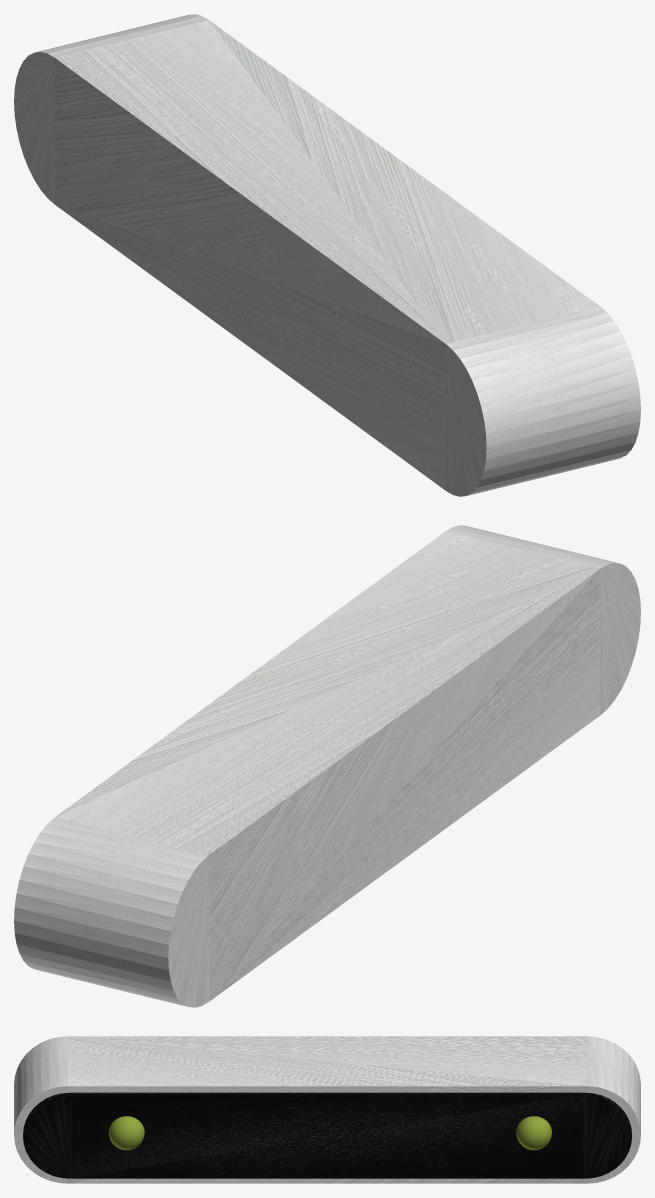
Rendered from stereolab.dae.
3 renders of one model, top to bottom at view 1: azimuth 30°, elevation 25°; view 2: azimuth 150°, elevation 25°; view 3: azimuth 270°, elevation 25°, orthographic. The views are drawn at different scales.
Visible parts, largest first — view 1: zed_-_lentille_zed-3; view 2: zed_-_lentille_zed-3; view 3: zed_-_lentille_zed-3.
Part boxes in pixels (x1,y1,x2,y2): zed_-_lentille_zed-3: (14,14,640,496); zed_-_lentille_zed-3: (14,525,640,1007); zed_-_lentille_zed-3: (14,1036,640,1183).
Bounding box in the file's own units: 0.039 × 0.175 × 0.03.
3 materials, 3 textured.
